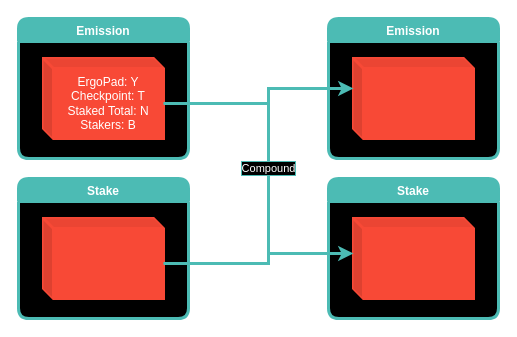
This 517x337 diagram has some shape labels left out. The shapes that lost their labels are listed below. From the top down, each one's box as (x1, y1, x2, y2) in pixels, then its label:
(352, 56, 474, 140): ErgoPad: Y-distributed amount Checkpoint: T Staked Total: N Stakers: B-1
(42, 216, 164, 300): ErgoPad: X Checkpoint: T
(352, 216, 474, 300): ErgoPad: X + (Y / N * X) Checkpoint: T+1
